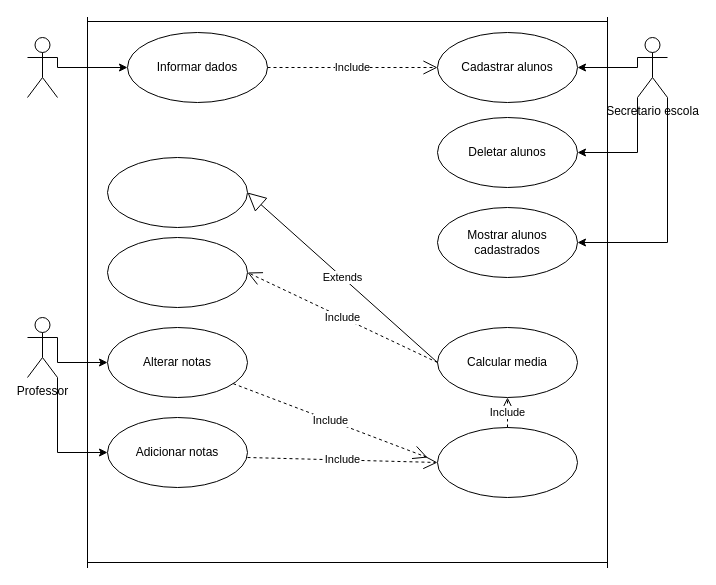
The diagram is 716 pixels wide and 585 high, and some of its shapes have lost their labels. Here are the shapes that lost their labels. From the top down, the box of each, then its label:
(26, 36, 58, 98): Aluno
(106, 156, 248, 228): Gerar alerta de recuperação
(106, 236, 248, 308): Mostrar a situação final
(436, 426, 578, 498): Calcular notas
